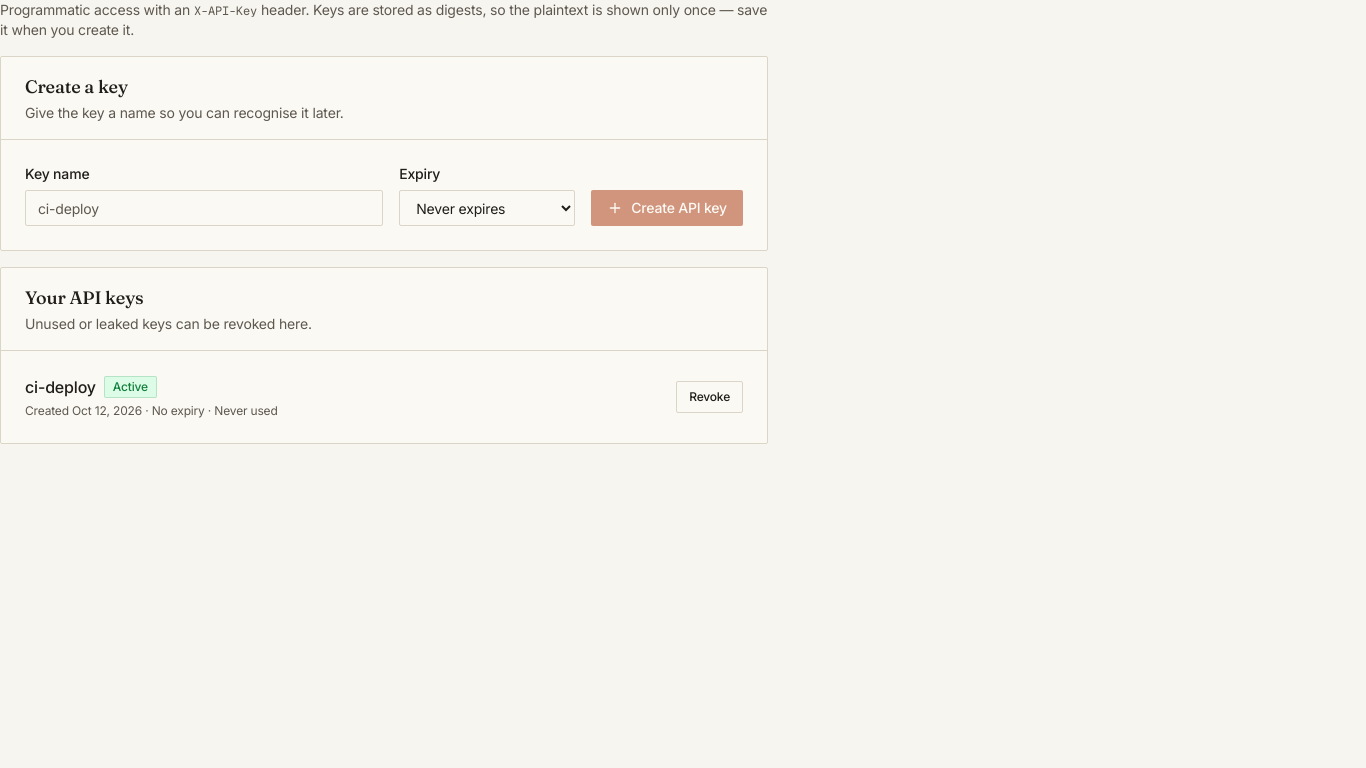
Test: ApiKeys page › revokes an existing key after confirmation
Click the button with aria-label "revoke ci-deploy" at (710, 397), box [676,381,743,413]
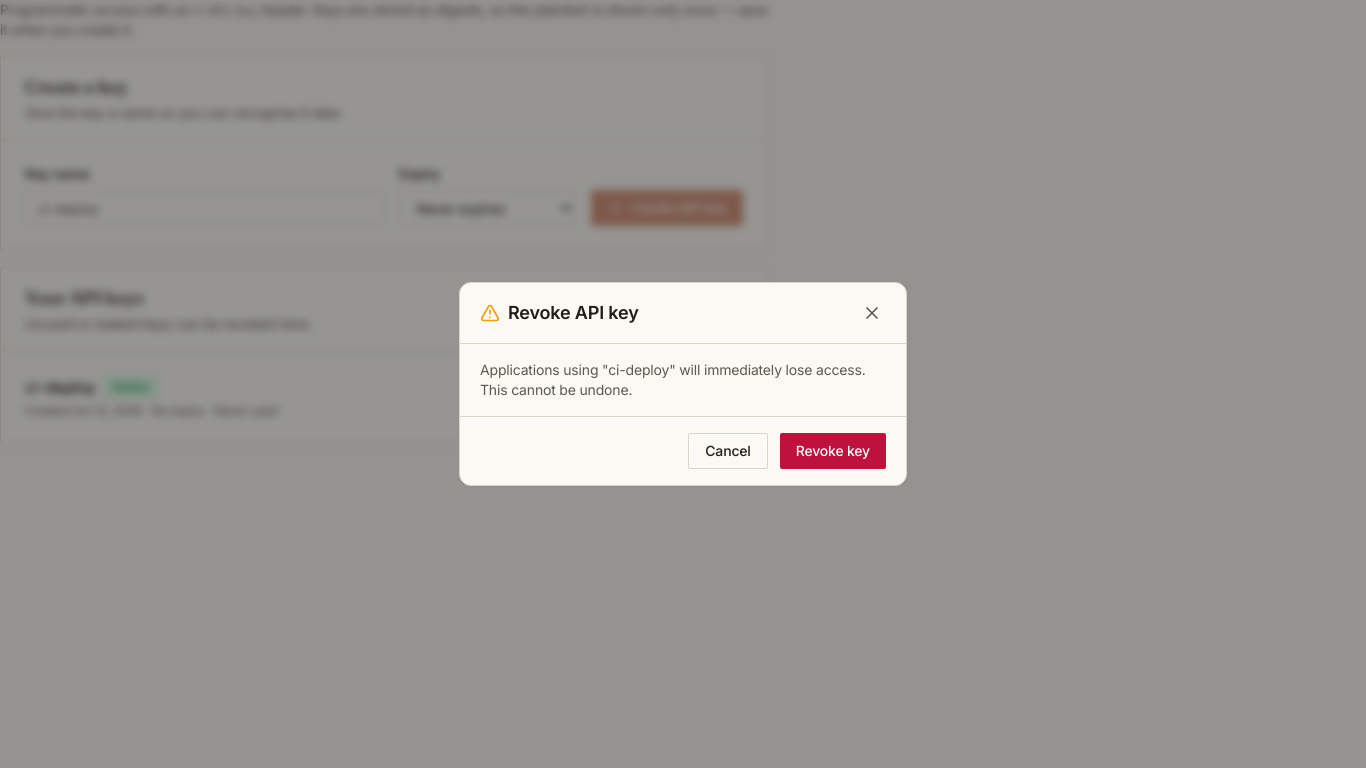
Confirmation dialog, then confirm.
Click the button "Revoke key" at (833, 451), box [780,433,886,469]
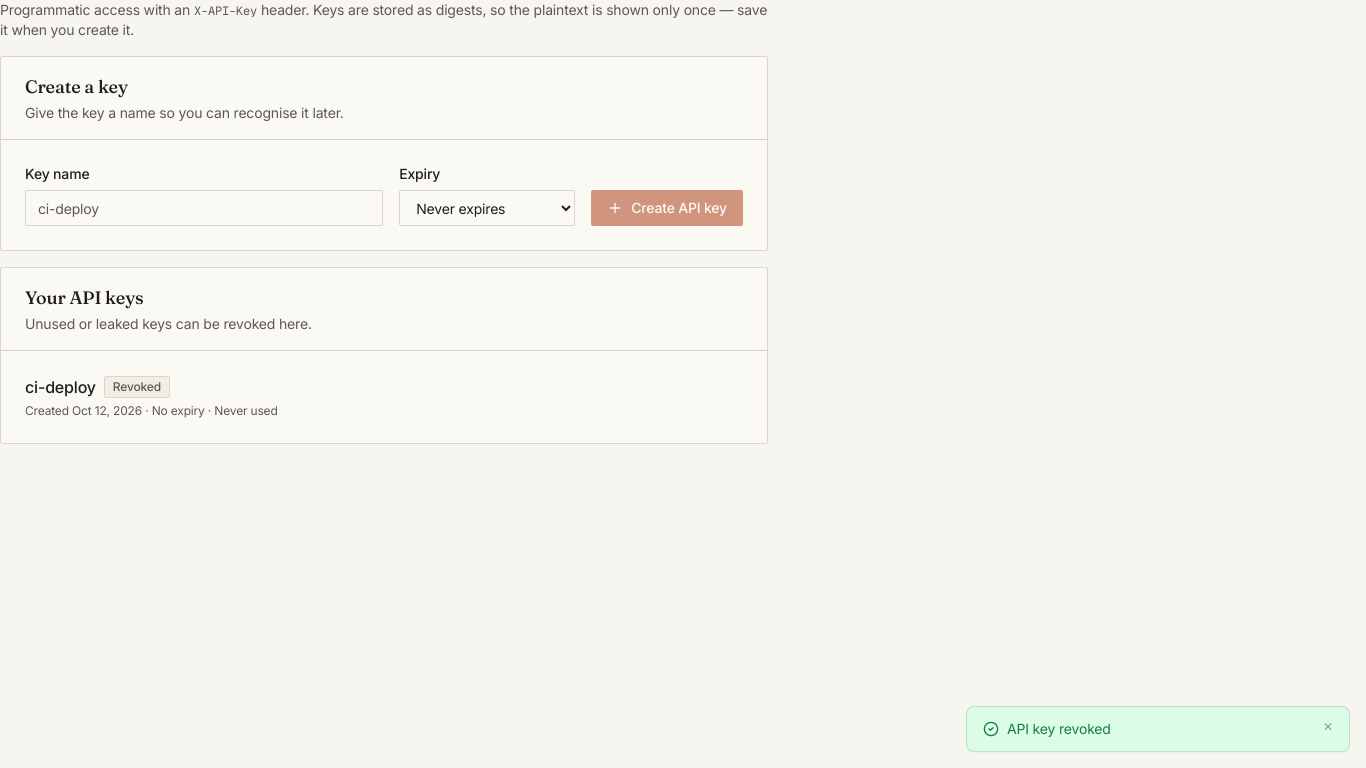
Check: the button "revoke ci-deploy" is not shown
Check: the text "Revoked" is shown, box [104,376,170,398]
